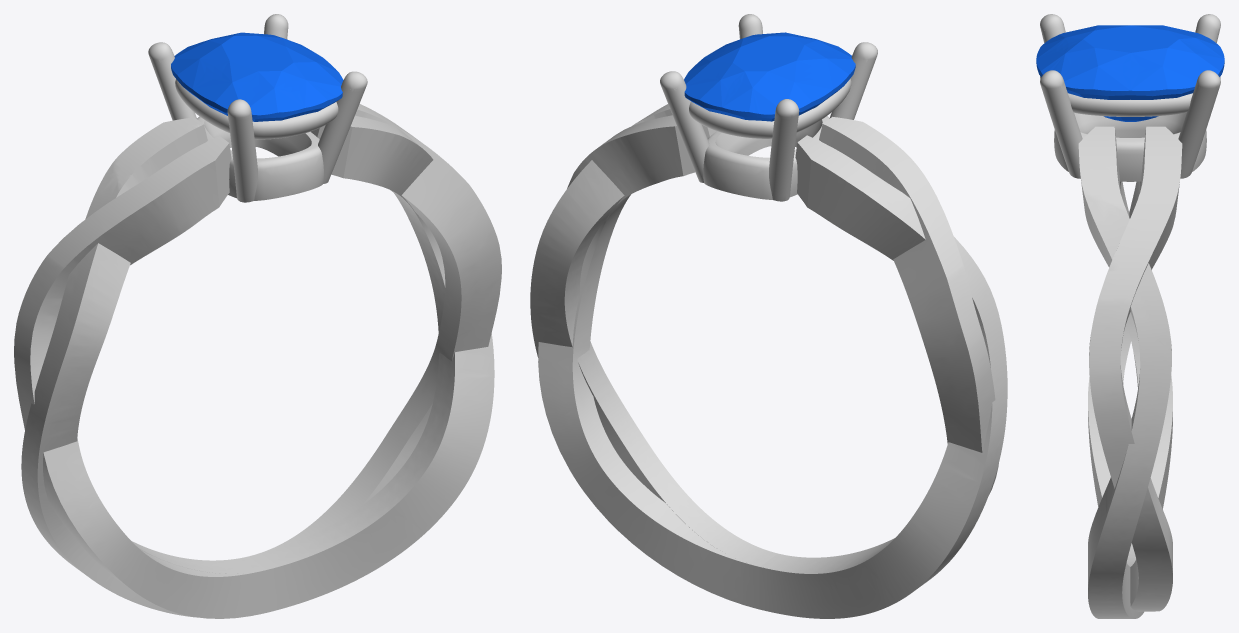
File: bluesapphire-cushion-platinum-4prong-twist-nosidestones.glb
The picture shows the model from 3 angles, left to right: view 1: azimuth 30°, elevation 25°; view 2: azimuth 150°, elevation 25°; view 3: azimuth 270°, elevation 25°; orthographic projection.
Parts seen in each view (by area): view 1: metal, stone; view 2: metal, stone; view 3: metal, stone.
Part boxes in pixels (x1,y1,x2,y2): metal: (14,14,501,618); stone: (171,32,343,121); metal: (530,14,1007,618); stone: (684,32,855,121); metal: (1040,14,1220,618); stone: (1036,25,1224,121).
Size of the model in its own units: 19.97 by 23.14 by 7.15.
